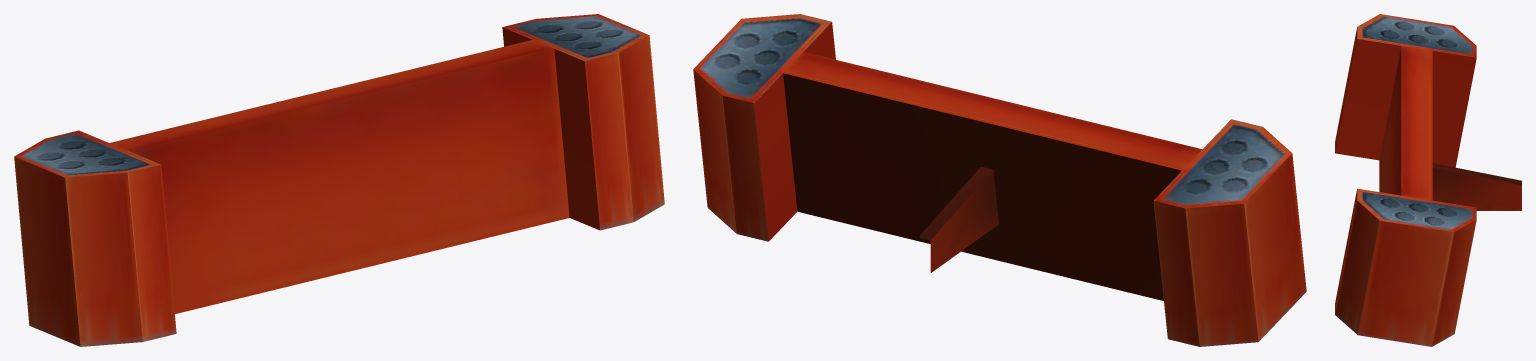
File: Kart 5 Spoiler.glb
3 renders of one model, left to right at view 1: azimuth 30°, elevation 25°; view 2: azimuth 150°, elevation 25°; view 3: azimuth 270°, elevation 25°, orthographic. The views are drawn at different scales.
Visible parts, largest first — view 1: spoiler; view 2: spoiler; view 3: spoiler.
Part boxes in pixels (x1,y1,x2,y2): spoiler: [14, 14, 664, 346]; spoiler: [693, 14, 1306, 346]; spoiler: [1335, 14, 1521, 346].
Size of the model in its own units: 2.02 by 0.6068 by 0.7693.
1 material, 1 textured.
